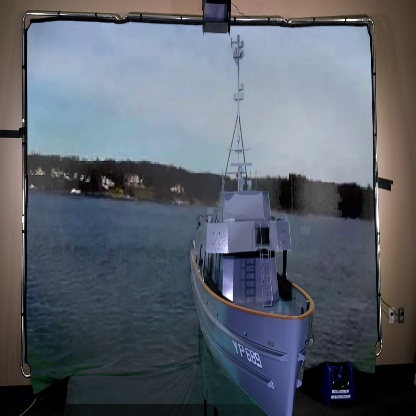YP689: (189, 35, 316, 416)
